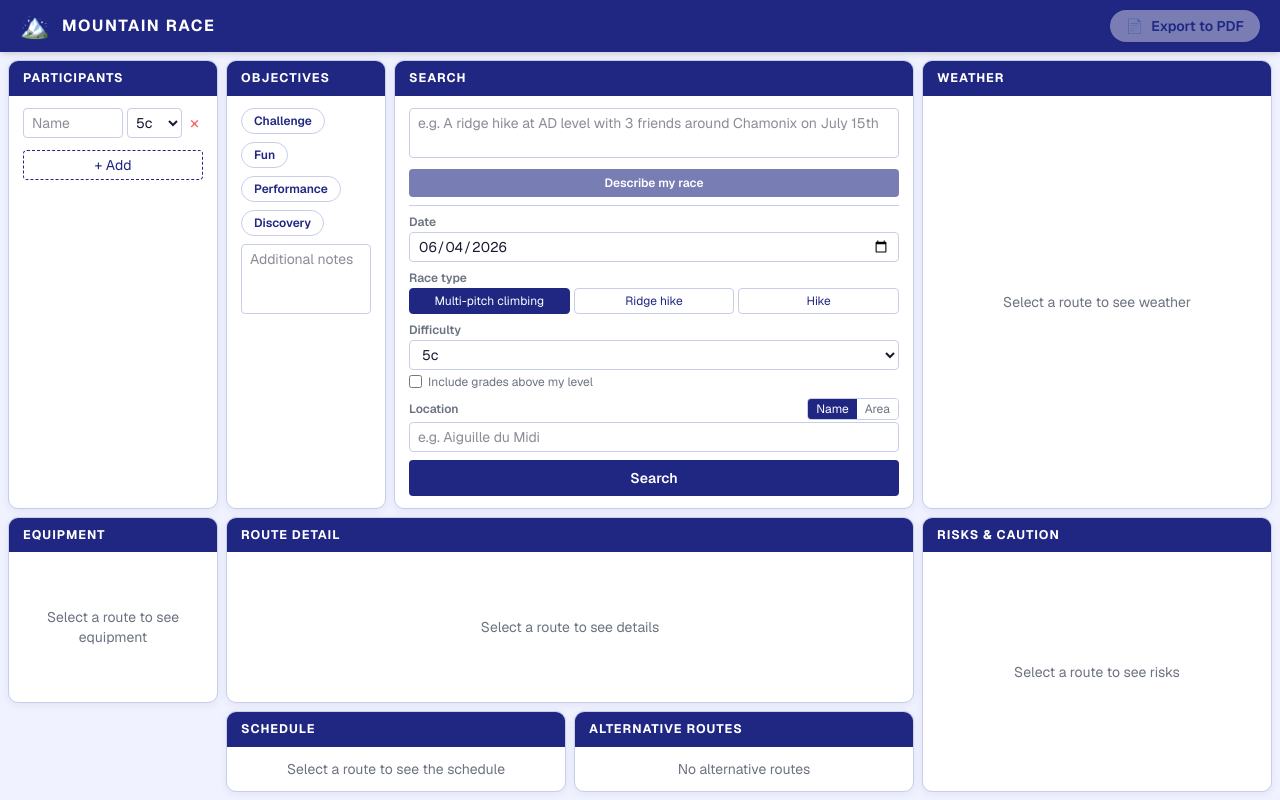
Test case: User flow: search and select a route › launching a new search clears detail, weather, and all route-derived panels
The width and height of the screenshot is (1280, 800).
// Search and select a route so all panels populate
Click the button "Search" at coordinates (654, 478), box [409,460,899,496]
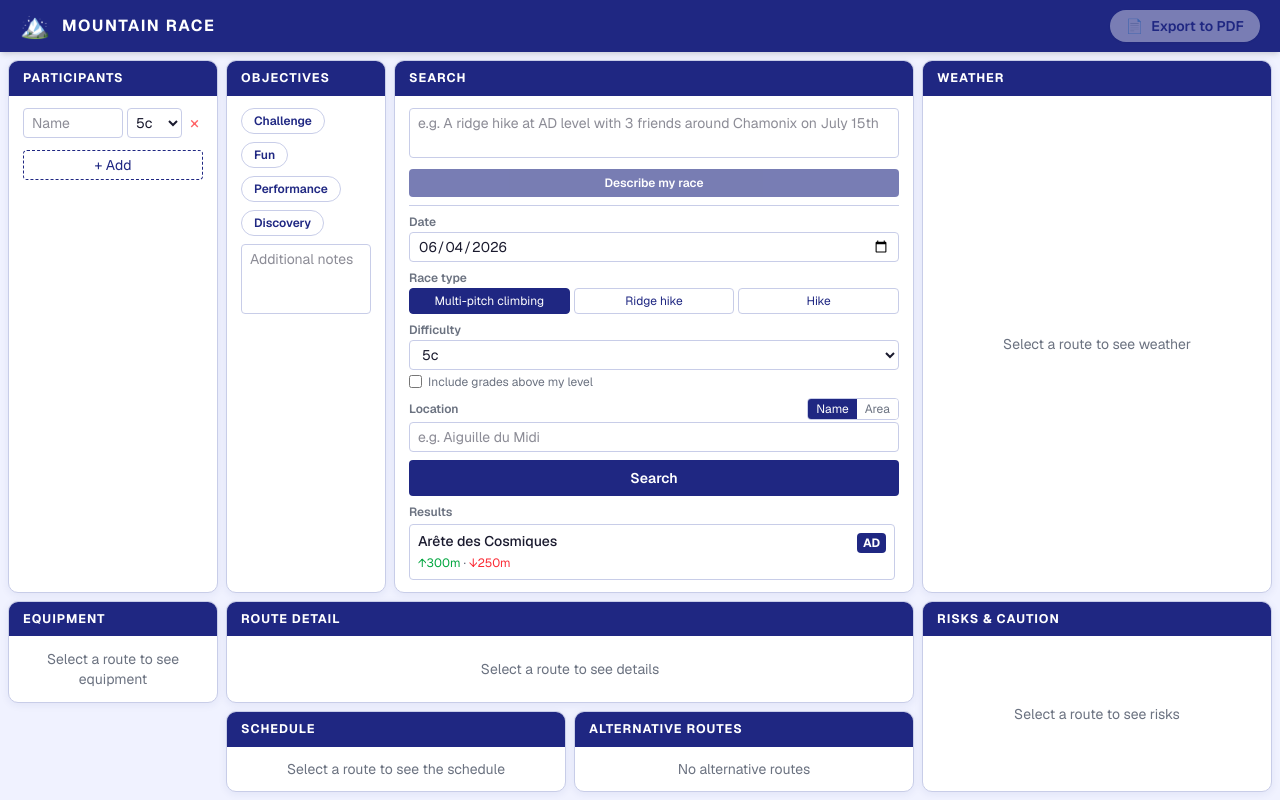
expect the text "Arête des Cosmiques" is shown: met
Click the text "Arête des Cosmiques" at coordinates (488, 541), box [418,532,557,550]
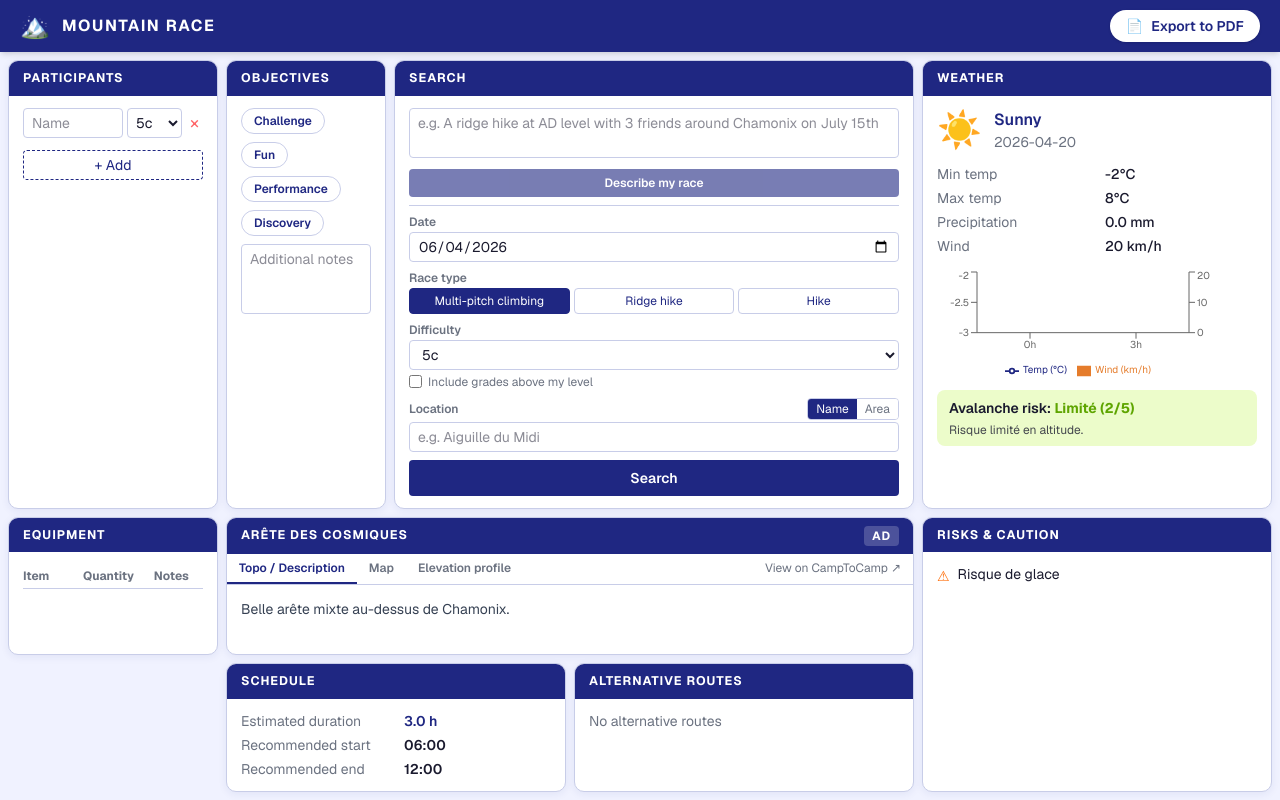
expect the text "Belle arête mixte au-dessus de Chamonix." is shown: met, box [241,600,509,618]
expect the text "-2°C" is shown: met, box [1105,165,1135,183]
// Launch a new search — all panels should immediately return to empty state
Click the button "Search" at coordinates (654, 478), box [409,460,899,496]
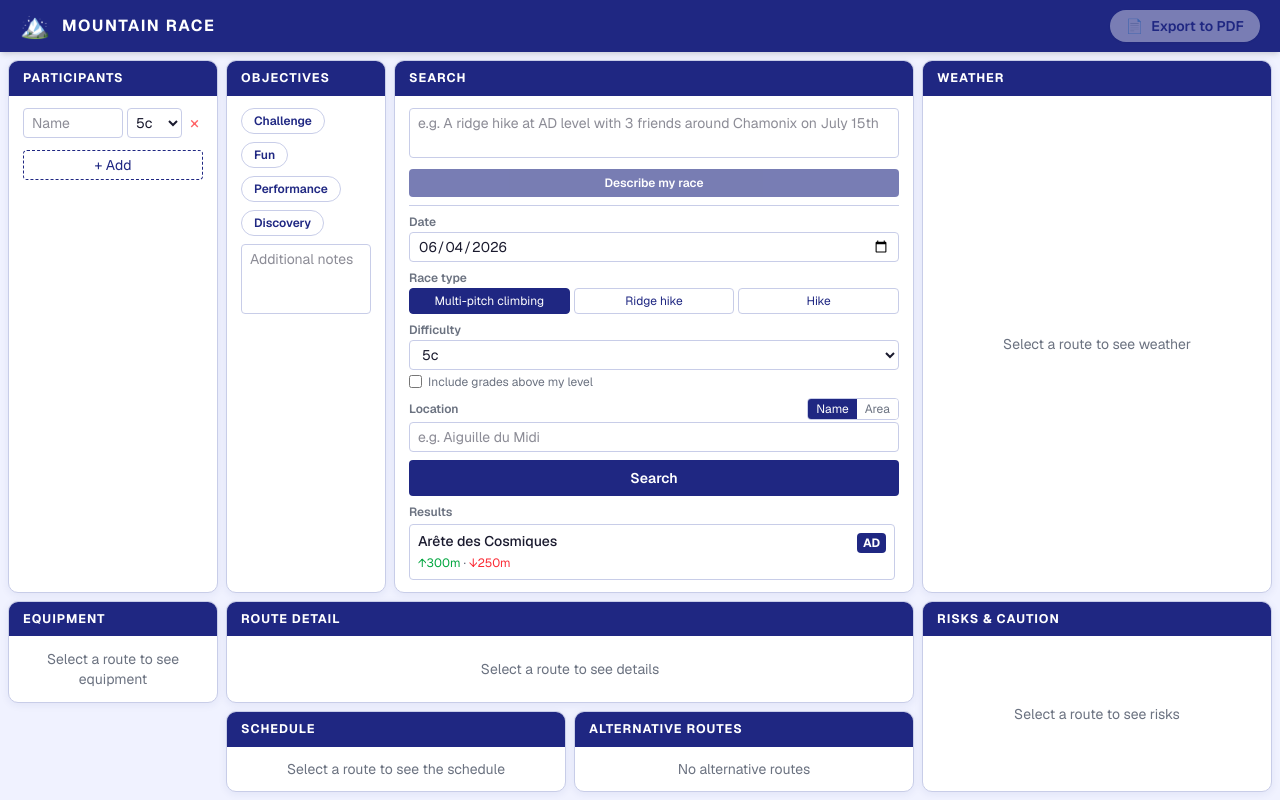
expect the text "Select a route to see details" is shown: met, box [481,660,659,678]
expect the text "Select a route to see weather" is shown: met, box [1003,335,1191,353]
expect the text "Belle arête mixte au-dessus de Chamonix." is gone: met
